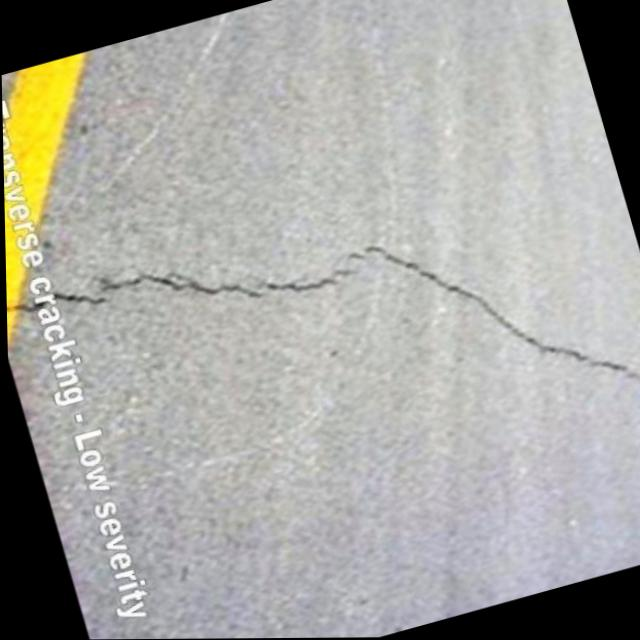Crack: (153, 213, 348, 362), (280, 184, 470, 333), (4, 230, 196, 364), (412, 232, 568, 396), (521, 296, 640, 419)
